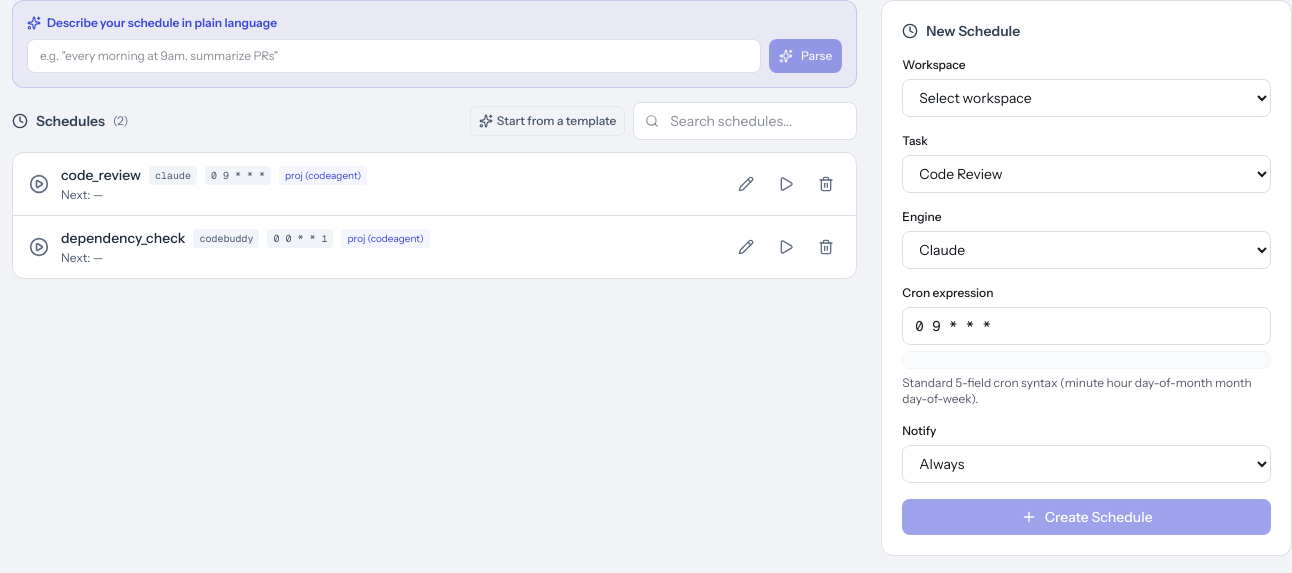
CronPage schedule search › filters schedules by task name, engine, or cron expression
Expected: the text "code_review" is shown, x1=61 y1=165 x2=141 y2=185
Expected: the text "dependency_check" is shown, x1=61 y1=228 x2=185 y2=248
Type "codebuddy" into the field labelled "Search schedules" at (745, 121), box x1=633 y1=102 x2=857 y2=140
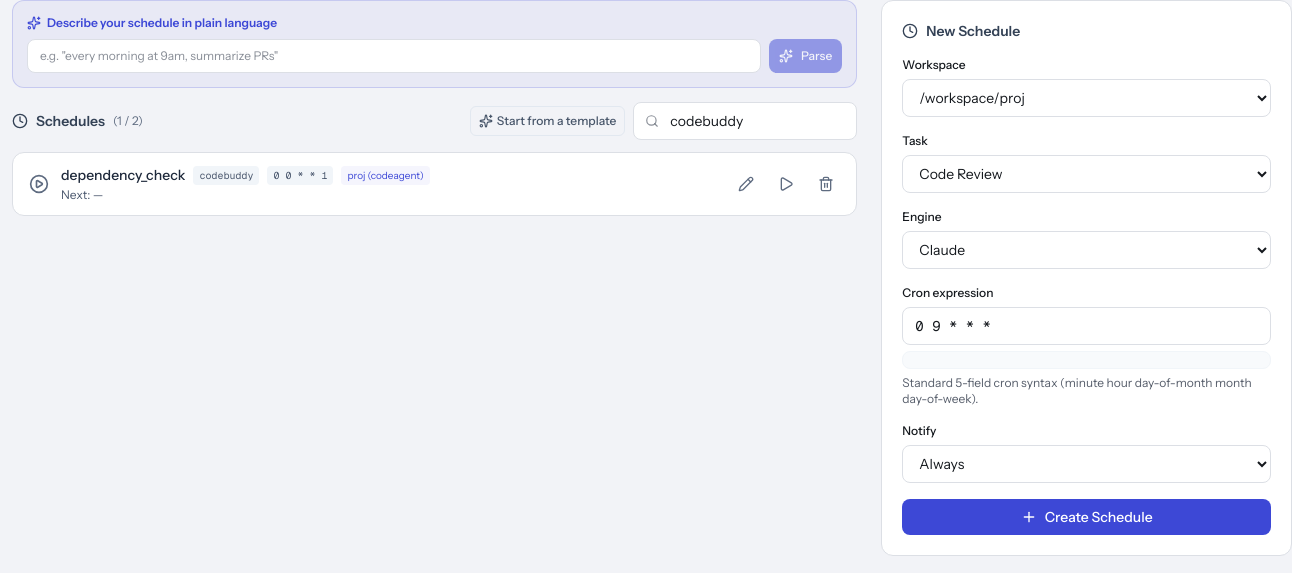
Expected: the text "dependency_check" is shown, x1=61 y1=165 x2=185 y2=185
Expected: the text "code_review" is gone
